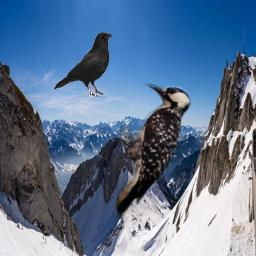Crow: (53, 31, 114, 97)
Woodpecker: (111, 82, 200, 224)
